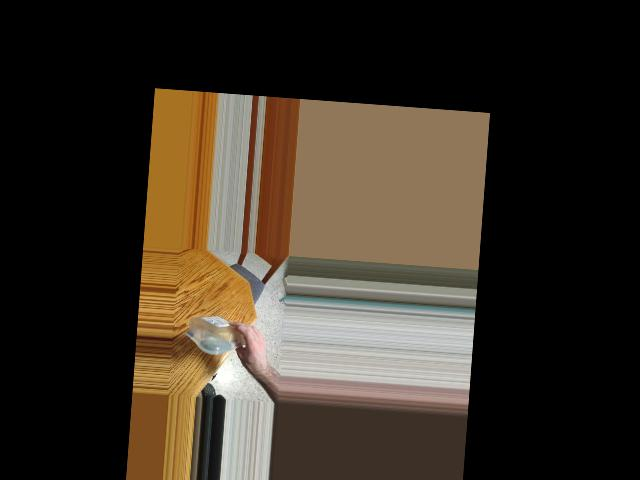cheese: (184, 312, 259, 354)
